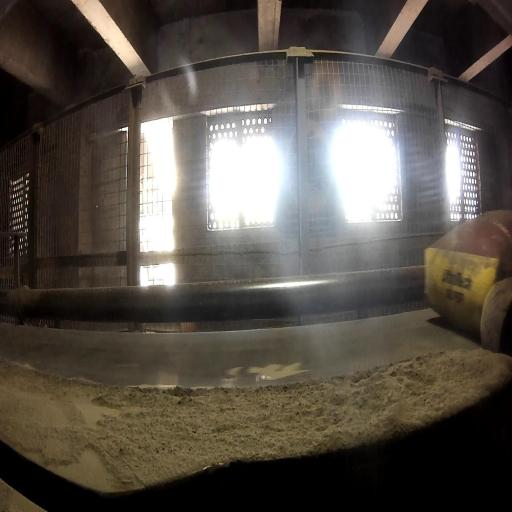c-belt-sack-count: (424, 210, 512, 336)
